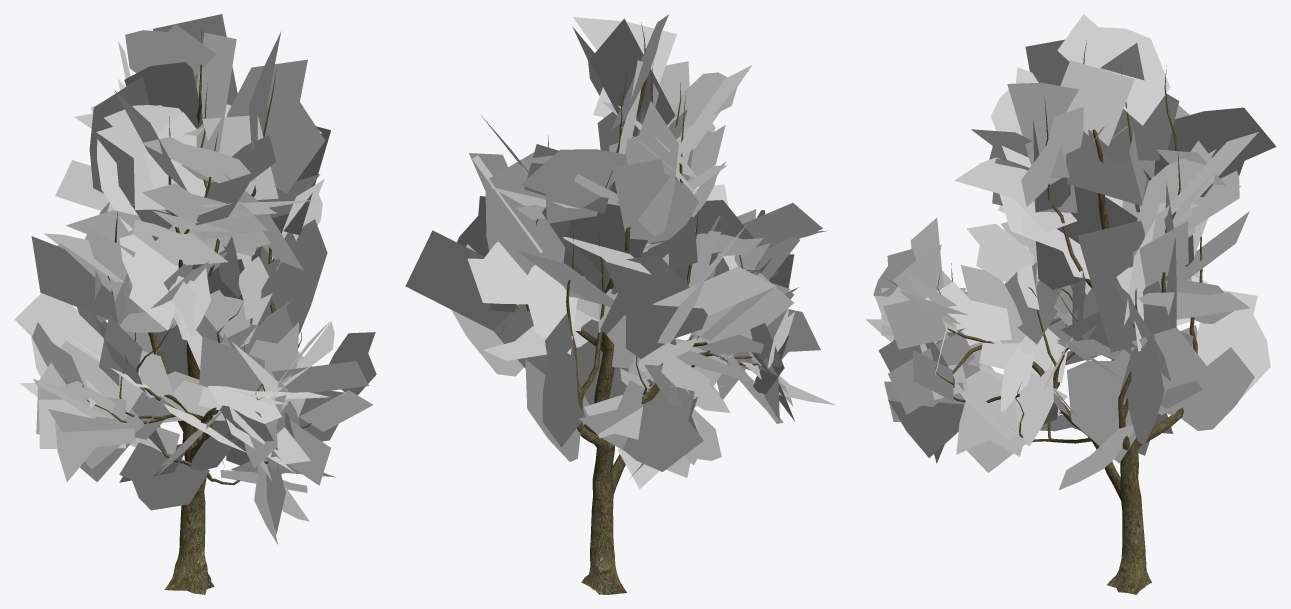
File: Tree_4861.fbx
3 views of the same model, side by side, from view 1: azimuth 30°, elevation 25°; view 2: azimuth 150°, elevation 25°; view 3: azimuth 270°, elevation 25° (orthographic). The views are drawn at different scales.
Parts seen in each view (by area): view 1: Tree_4861_Viaz_AT, Tree_4861_VIAZ_bARK; view 2: Tree_4861_Viaz_AT, Tree_4861_VIAZ_bARK; view 3: Tree_4861_Viaz_AT, Tree_4861_VIAZ_bARK.
Part boxes in pixels (x1=…): Tree_4861_Viaz_AT: x1=14, y1=14, x2=376, y2=544; Tree_4861_VIAZ_bARK: x1=65, y1=30, x2=311, y2=594; Tree_4861_Viaz_AT: x1=405, y1=14, x2=835, y2=488; Tree_4861_VIAZ_bARK: x1=515, y1=22, x2=783, y2=594; Tree_4861_Viaz_AT: x1=866, y1=14, x2=1276, y2=490; Tree_4861_VIAZ_bARK: x1=886, y1=40, x2=1202, y2=594.
Bounding box in the file's own units: 65.02 × 105 × 71.01.
